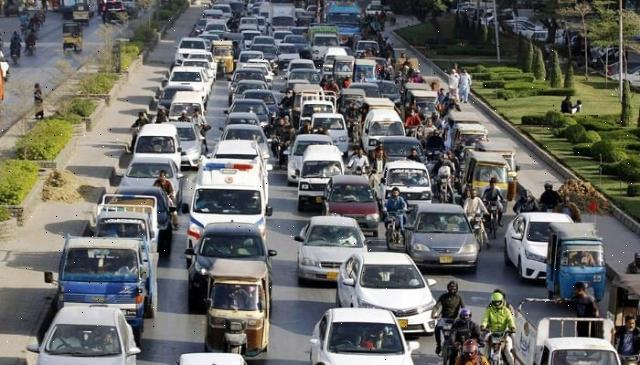Bike: (485, 330, 509, 365), (382, 210, 403, 250), (485, 200, 504, 240)
Car: (332, 252, 439, 334), (307, 306, 420, 365), (27, 305, 136, 365), (405, 202, 481, 272), (292, 215, 368, 282), (504, 213, 556, 284), (322, 175, 382, 233)
Person: (432, 279, 469, 322), (482, 292, 515, 337), (446, 309, 484, 344), (464, 190, 488, 220), (383, 188, 407, 215), (479, 180, 504, 205)
Rickshaw: (204, 258, 272, 360), (546, 223, 607, 302)
Suzuki: (510, 292, 620, 365), (374, 161, 433, 211)
Truck: (48, 229, 154, 331)
Van: (186, 157, 275, 244), (297, 145, 345, 212)
